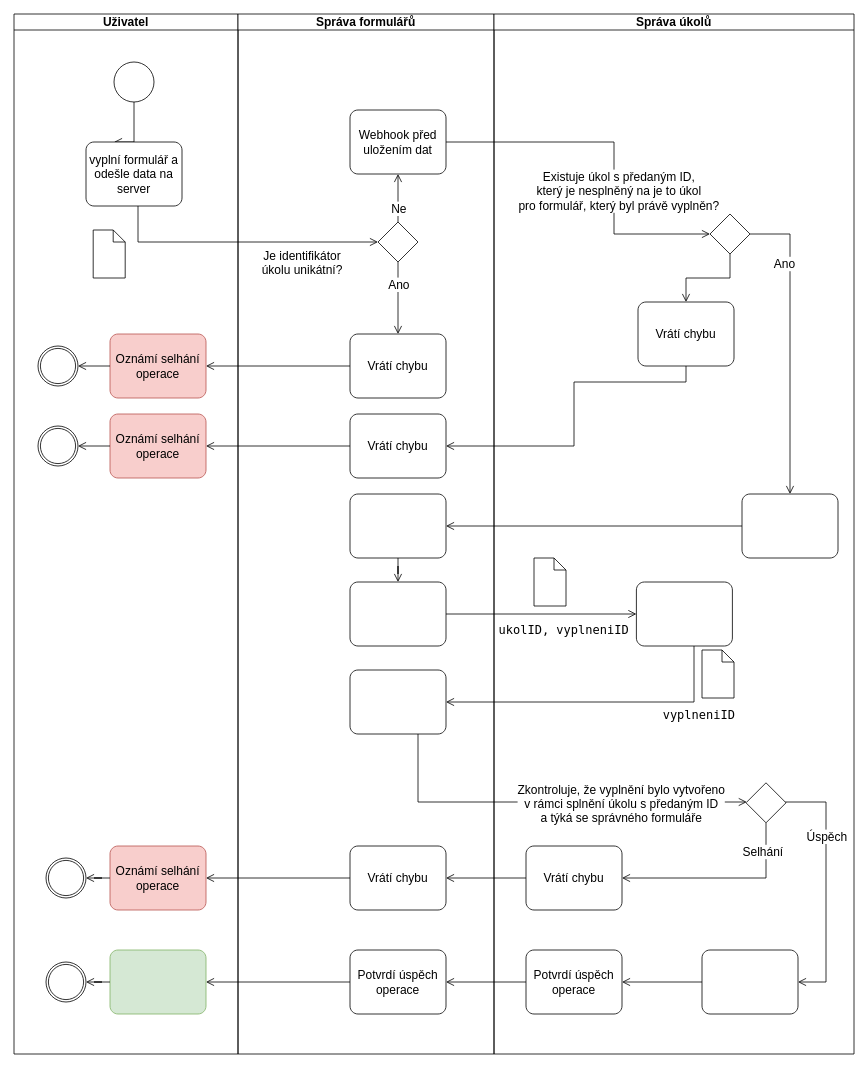
Image size: 868x1068. Some labels were removed from this diagram. Each missing label, with the centre of its shape:
Oznámí úspěch operace: point 157,981
Uloží ID vyplnění dotazníku do úkolu a uvede jej do stavu "hotový": point 749,981
Uloží vyplnění dotazníku: point 397,525
Uvede úkol do stavu "skoro hotový": point 789,525
Vrátí vyplnění dotazníku: point 397,701
vyplnění formuláře ukolID, formularID, data: point 108,253
Vyžádá si vyplnění dotazníku: point 684,613
Webhook po uložení dat: point 397,613
